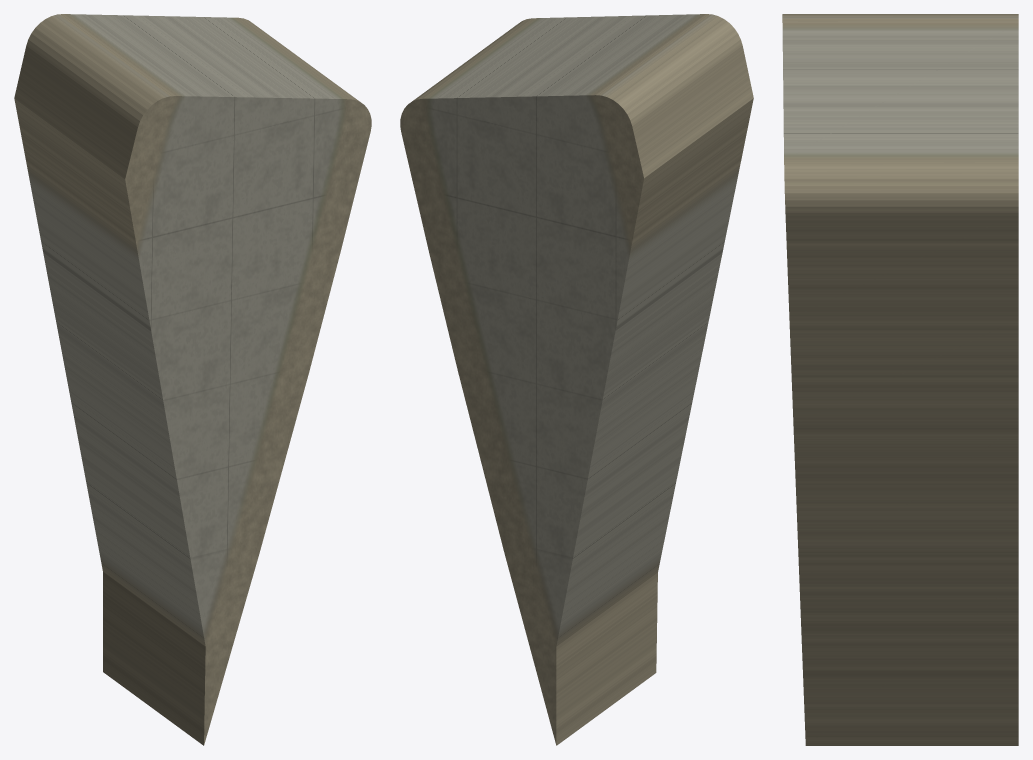
The model's file is gaogongdao_landing.obj.
3 views of the same model, side by side, from view 1: azimuth 30°, elevation 25°; view 2: azimuth 150°, elevation 25°; view 3: azimuth 270°, elevation 25° (orthographic). The views are drawn at different scales.
Visible parts, largest first — view 1: harbor; view 2: harbor; view 3: harbor.
Boxes of the visible parts, box(x1,y1,x2,y2) form: harbor: box(14, 14, 371, 745); harbor: box(400, 14, 753, 745); harbor: box(782, 14, 1018, 745).
Size of the model in its own units: 12.27 by 31.79 by 9.66.
Materials: 1 (1 with a texture image).
